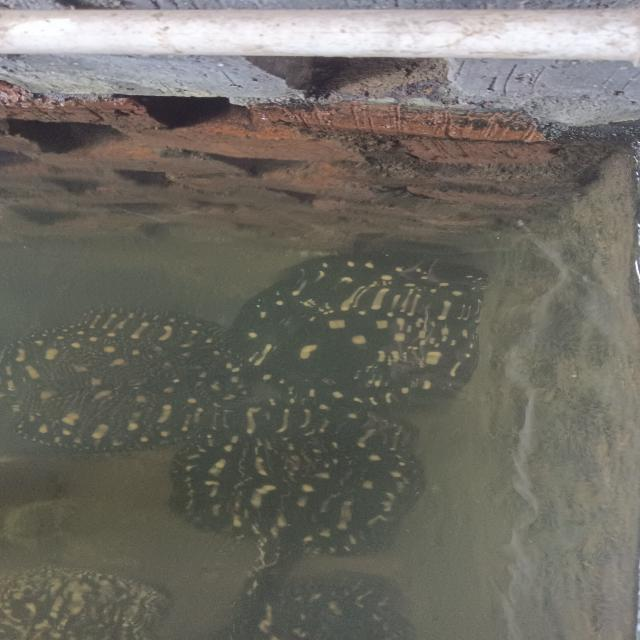black-diamond-sting-ray: (167, 393, 446, 596), (0, 260, 245, 490), (220, 237, 524, 422)
